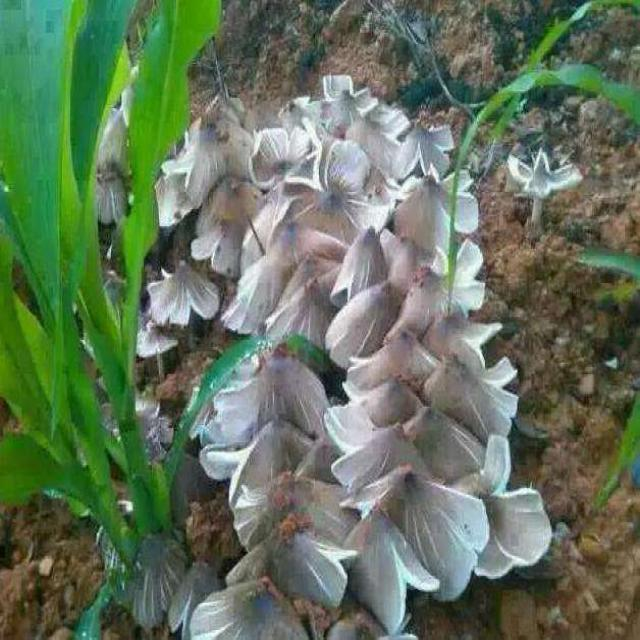Collybia albuminosa: (147, 73, 548, 634)
